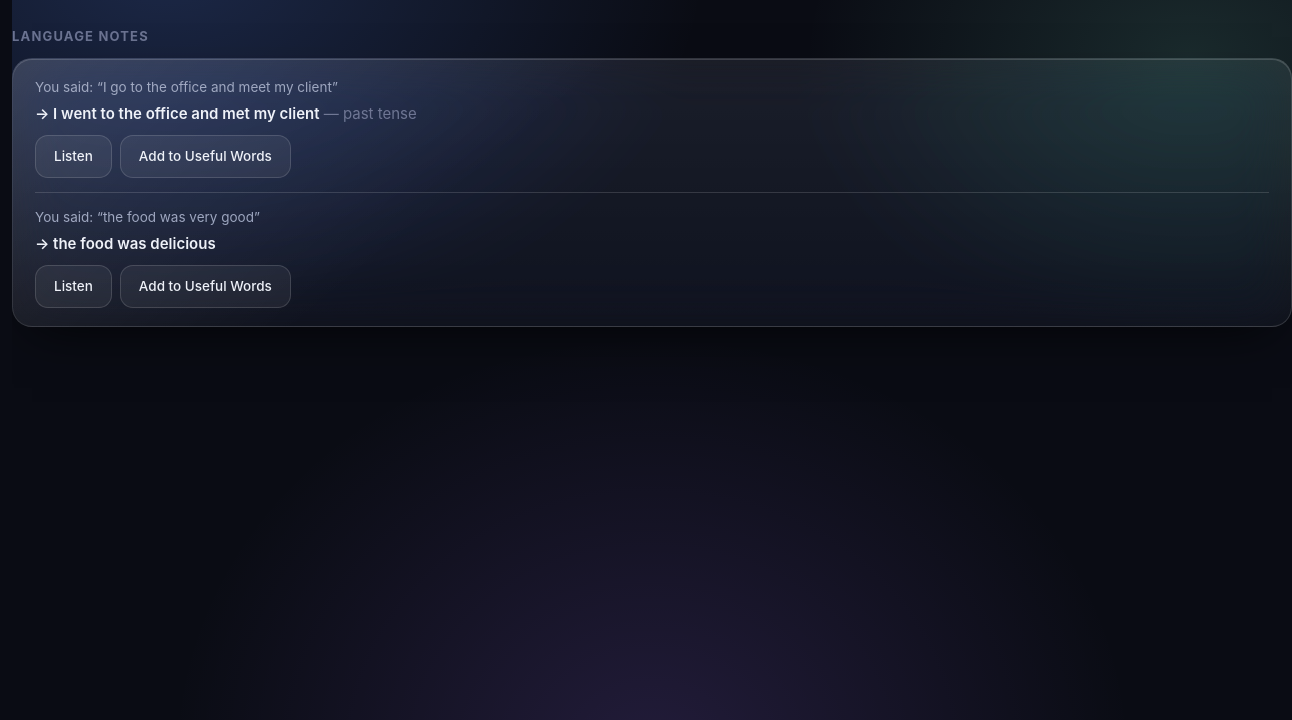
it: LanguageNotes — Add to Useful Words (C12) › ответ 200 — кнопка «Already in Useful Words»
This screenshot has width=1292, height=720.
Click the button "Add to Useful Words" below "I go to the office and meet my client" at {"x": 205, "y": 157}, box [120,135,291,178]
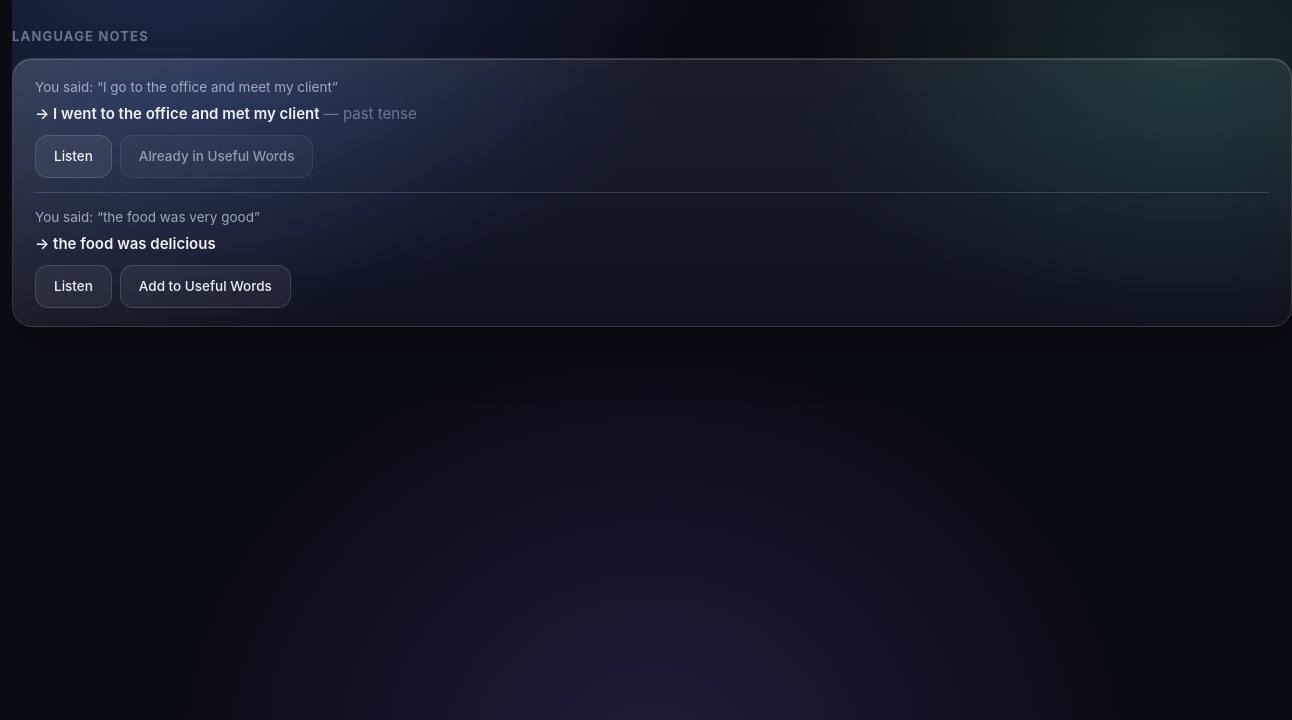
Now the button "Already in Useful Words" is disabled, box [120,135,313,178]
